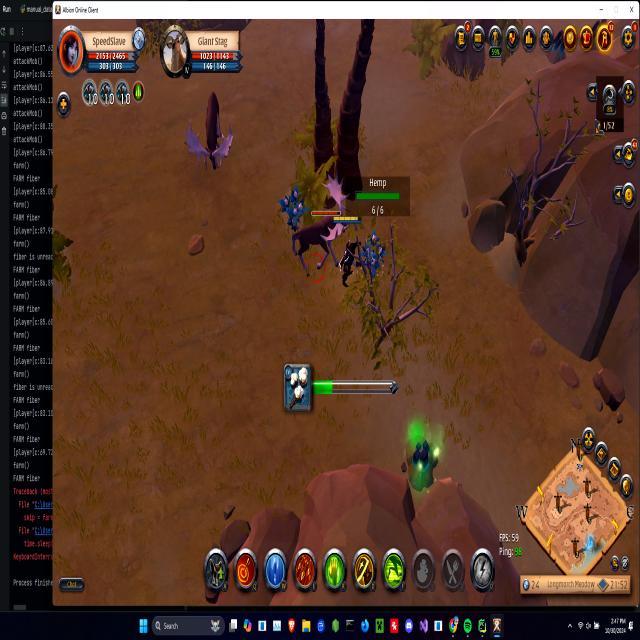hide: (358, 230, 385, 286), (279, 182, 307, 233)
ore: (291, 172, 352, 285), (183, 85, 236, 176)
player: (401, 424, 438, 492), (544, 29, 568, 68)
red: (333, 212, 362, 289)
